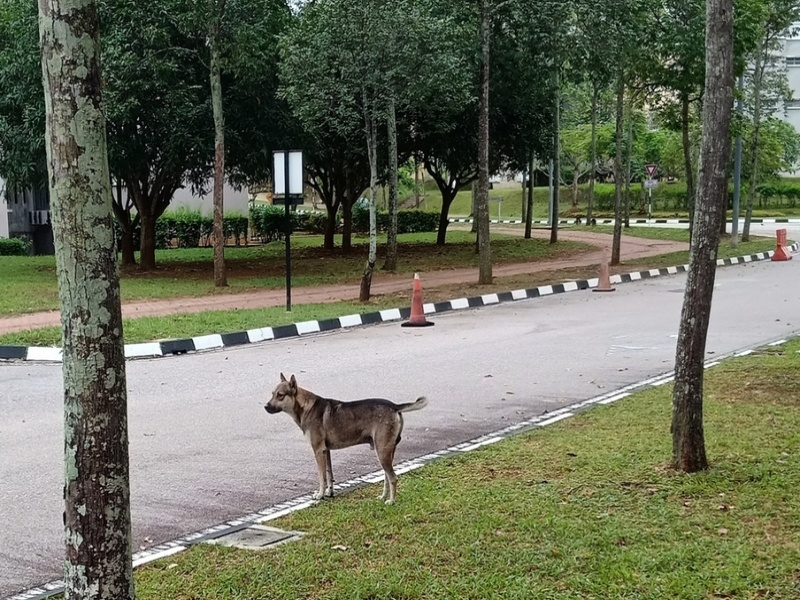dog: (264, 371, 431, 505)
